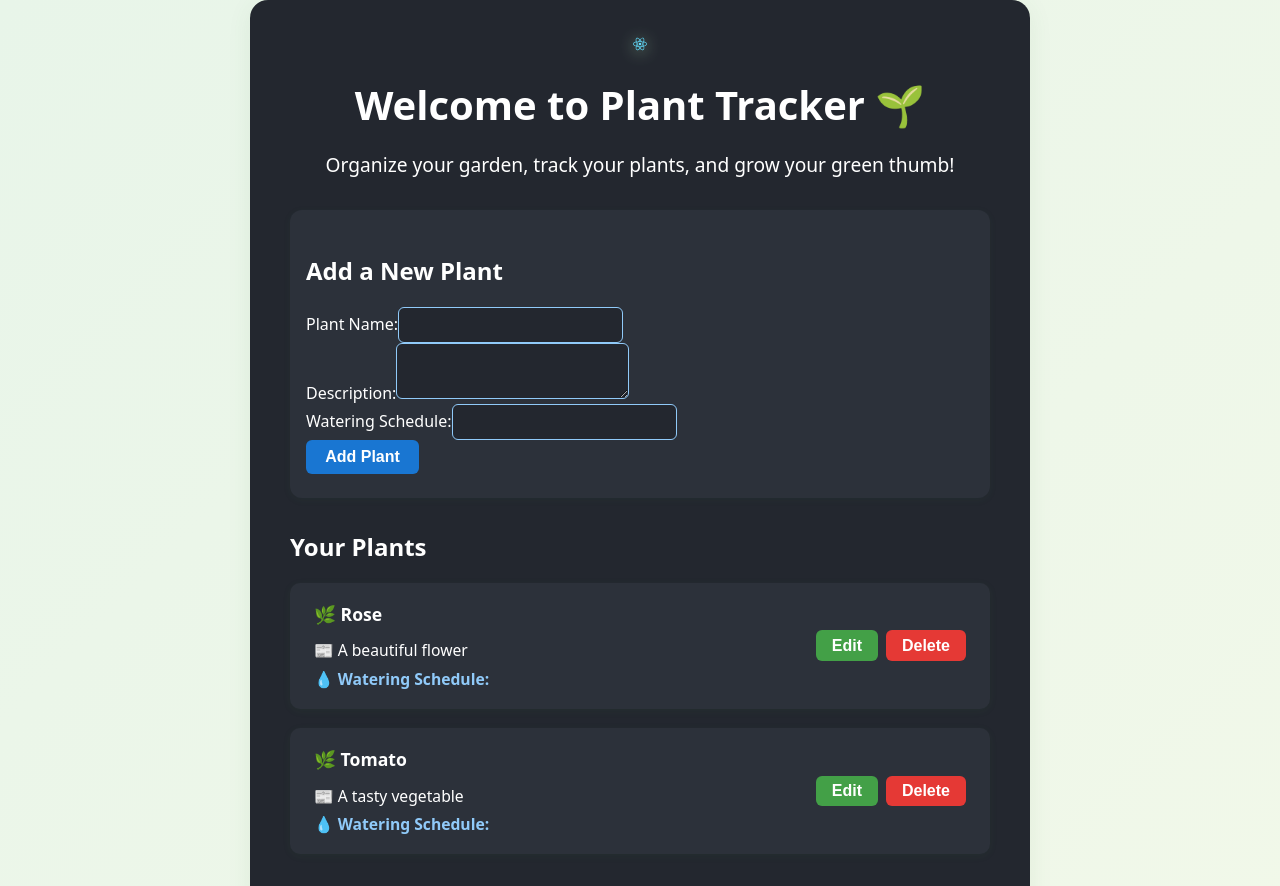
Test: App Component Tests › enables plant editing mode correctly
This screenshot has width=1280, height=886.
Expected: the text "Rose" is shown, [340,602,382,626]
Note: Click edit button
Step 1. Click the button "Edit" in the row of "A beautiful flower" → click(847, 646), box [816,630,878,661]
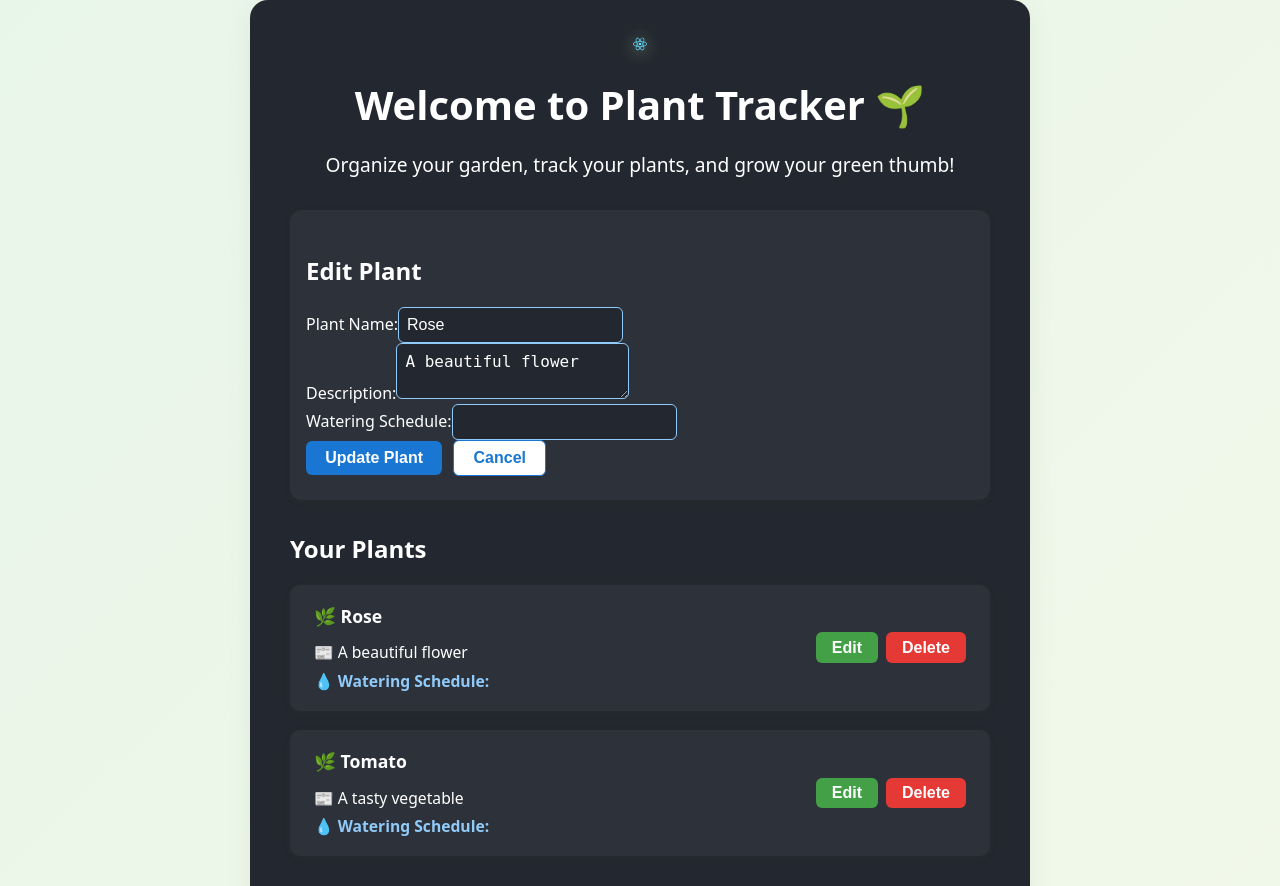
Result: the field showing "Rose" is shown at [398,307,623,343]
Result: the heading "Edit Plant" is shown at [306,254,422,287]
